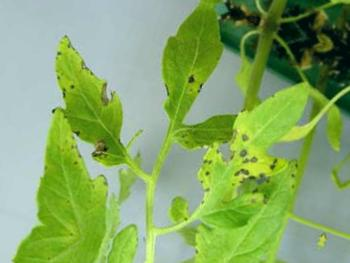Tomato leaf bacterial spot: (175, 54, 319, 247), (25, 32, 175, 183), (138, 0, 236, 141)
